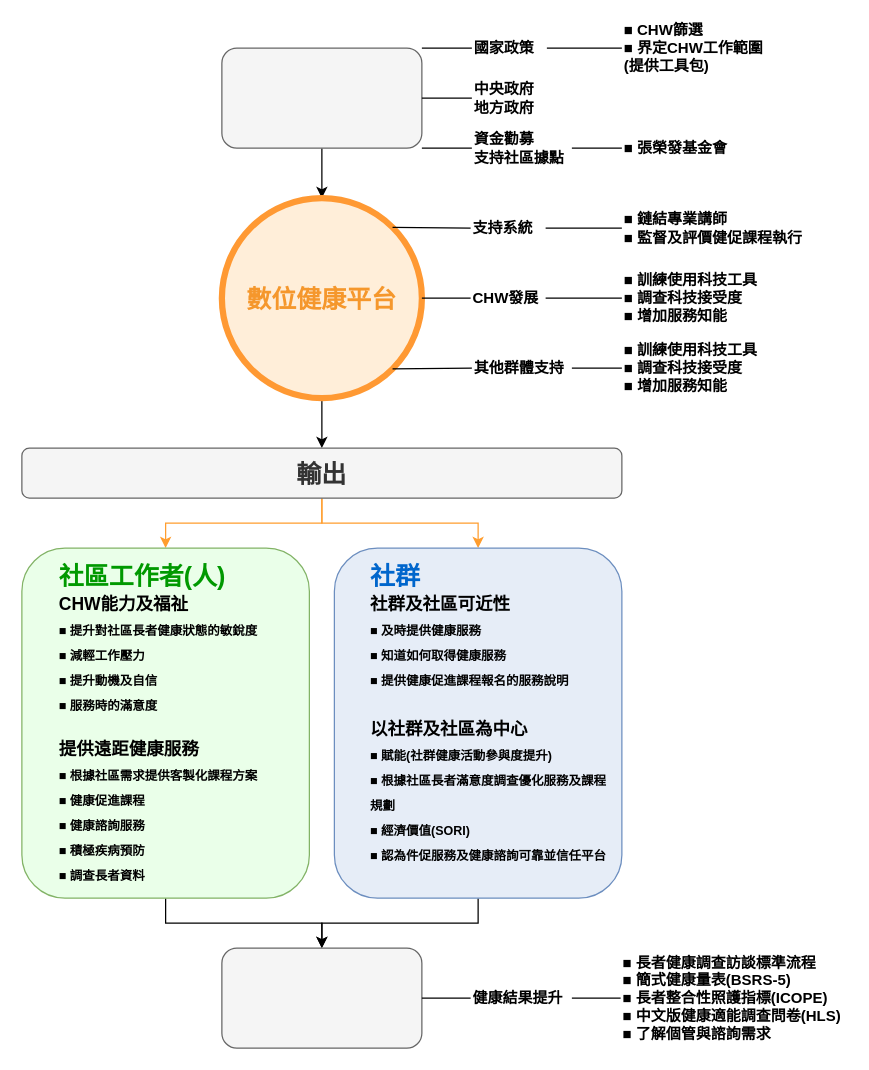
The diagram is 869 pixels wide and 1070 high, and some of its shapes have lost their labels. Here are the shapes that lost their labels. From the top down, the centre of each, then its label:
At (x=321, y=97): "輸入".
At (x=321, y=997): "結果".
